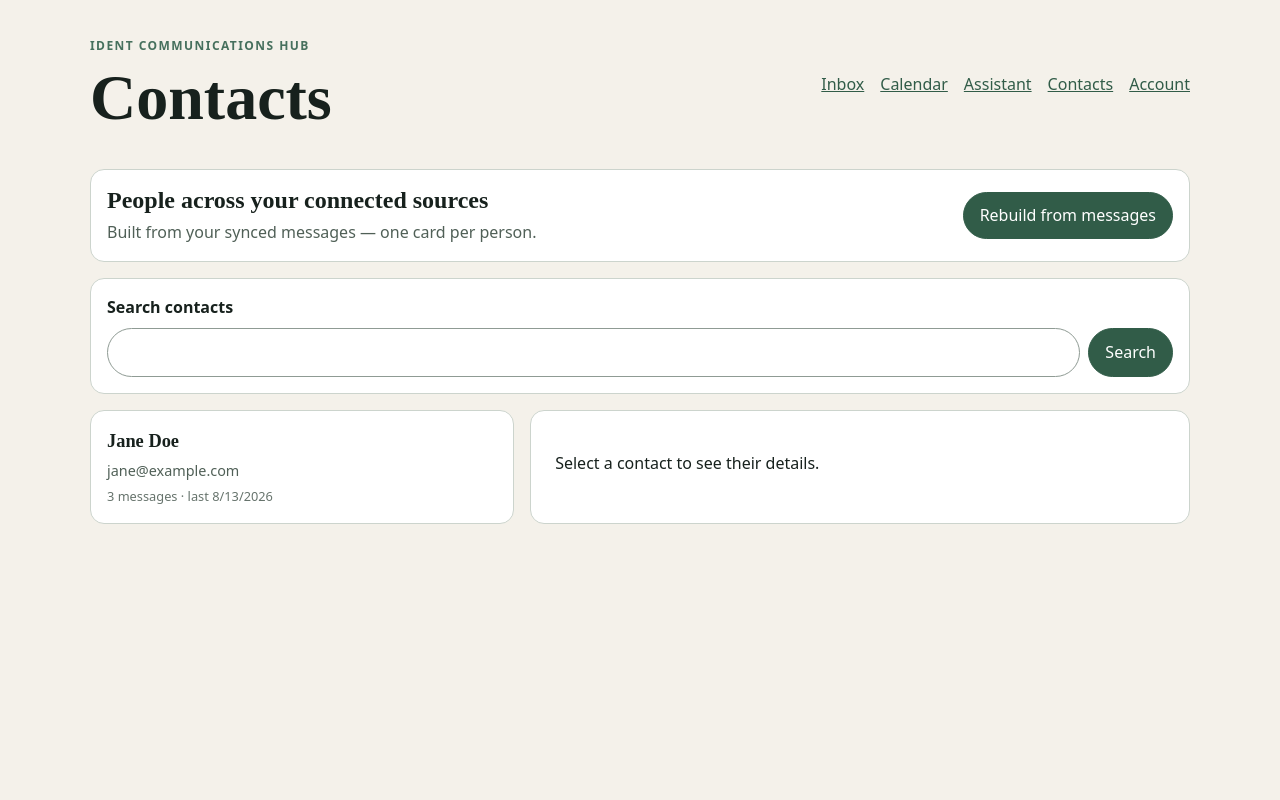
Test: ContactsClient › opens a contact and lists their recent messages
Expected: the text "Jane Doe" is shown, [107, 431, 179, 451]
Click the button "Jane Doe jane@example.com 3 messages · last 8/13/2026" at {"x": 143, "y": 441}, box [90, 410, 514, 524]
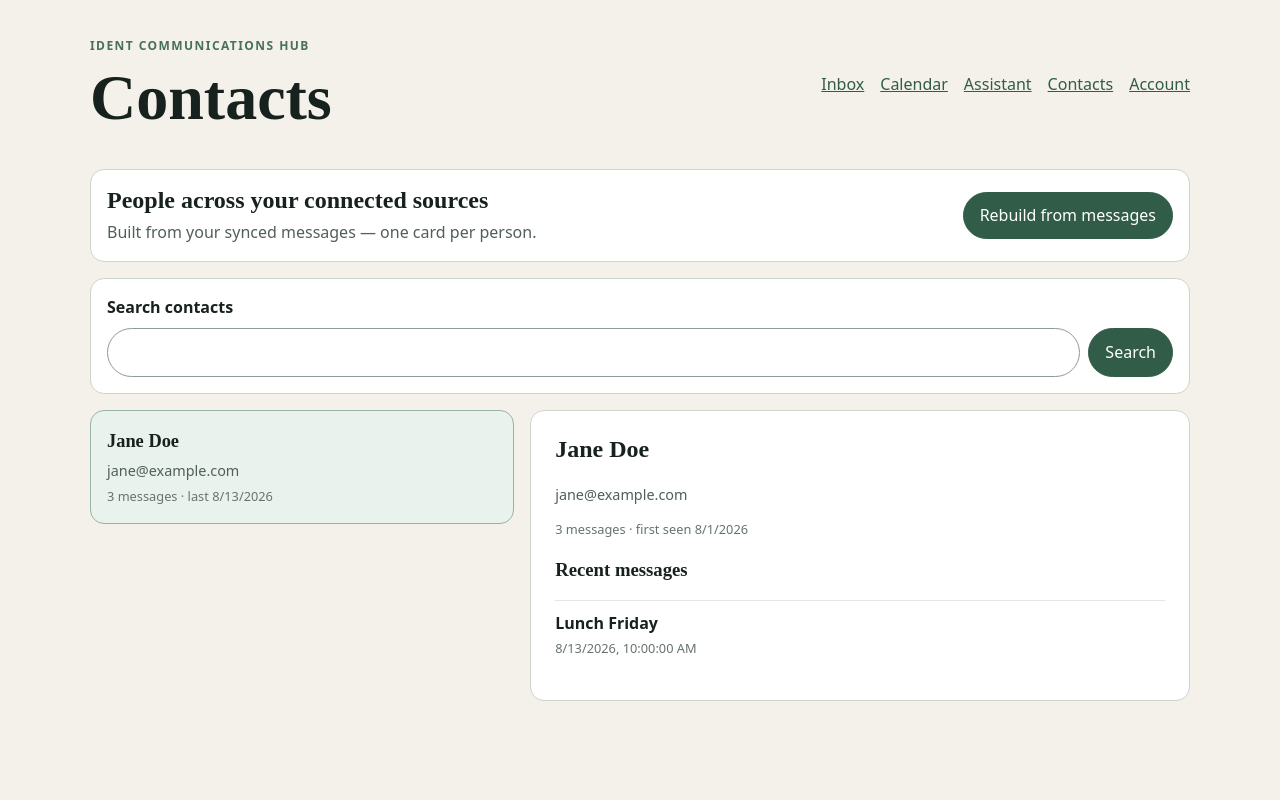
Now the text "Lunch Friday" is shown, box [555, 612, 658, 634]
